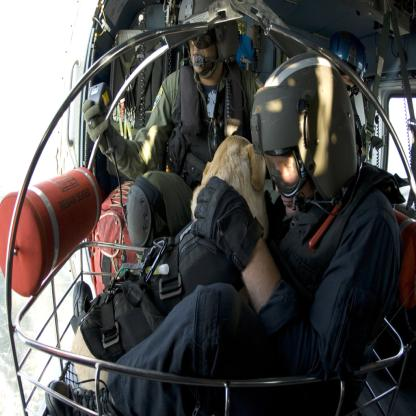Helmet: (257, 60, 364, 223)
